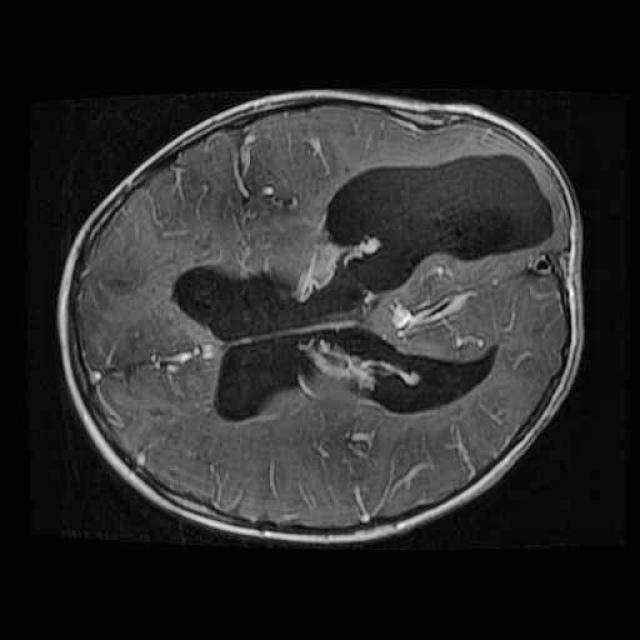Tumor: (303, 137, 571, 302)
